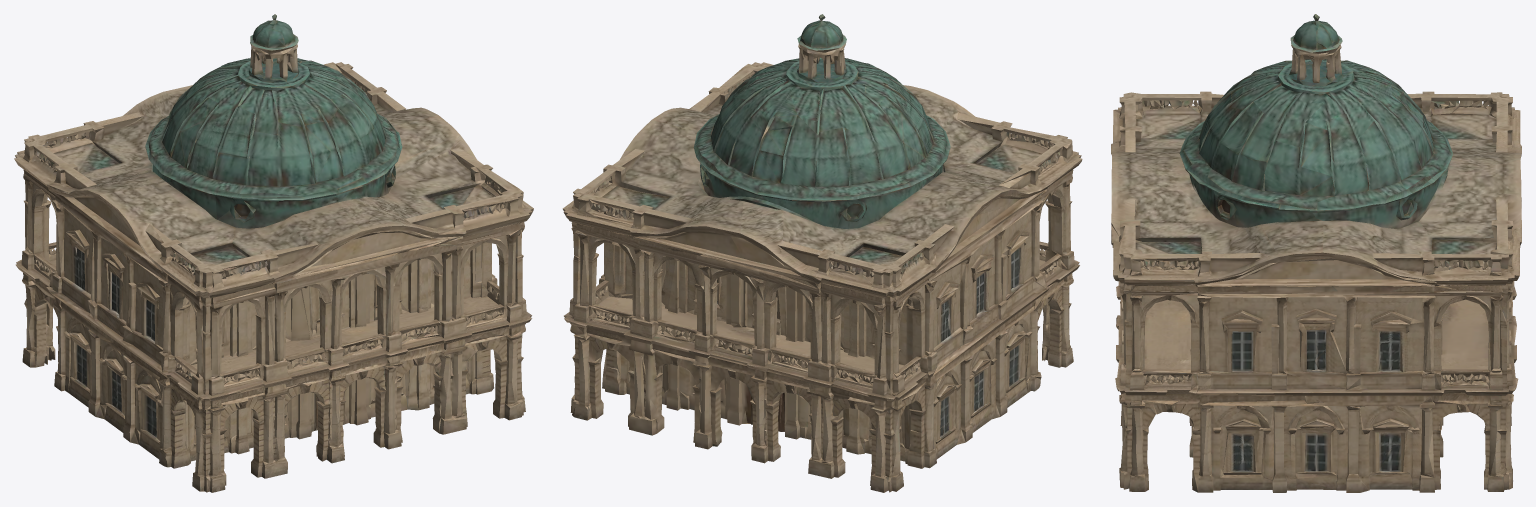
The model's file is theed.glb.
3 renders of one model, left to right at view 1: azimuth 30°, elevation 25°; view 2: azimuth 150°, elevation 25°; view 3: azimuth 270°, elevation 25°, orthographic. The views are drawn at different scales.
Parts seen in each view (by area): view 1: theed; view 2: theed; view 3: theed.
Part boxes in pixels (bbox=[...]): theed: bbox=[14, 14, 533, 492]; theed: bbox=[562, 14, 1082, 492]; theed: bbox=[1111, 14, 1521, 492].
Size of the model in its own units: 35 by 36.61 by 34.58.
Materials: 1 (1 with a texture image).
